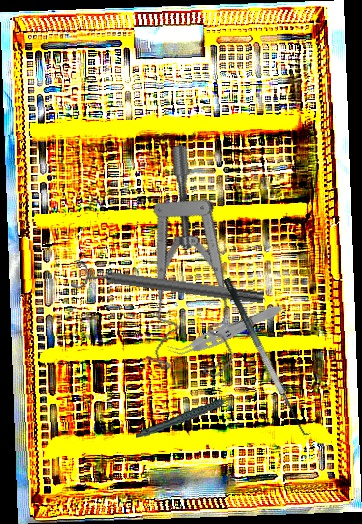Fixation Ring: (70, 256, 266, 316)
Handpiece: (132, 395, 244, 439)
Spatula Surgical: (222, 270, 318, 441)
Speculum: (102, 141, 294, 391)
Tissue Forceps: (165, 298, 286, 365)
